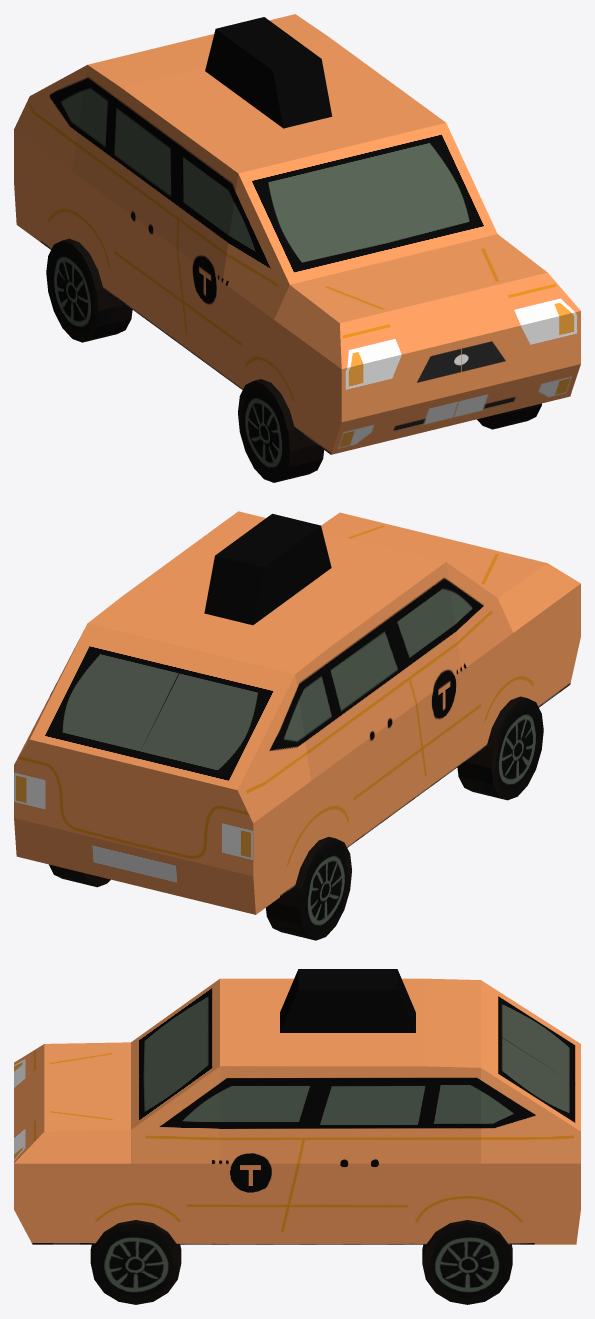
The model's file is car_suvtaxi_v1.fbx.
3 renders of one model, top to bottom at view 1: azimuth 30°, elevation 25°; view 2: azimuth 150°, elevation 25°; view 3: azimuth 270°, elevation 25°, orthographic. The views are drawn at different scales.
Visible parts, largest first — view 1: Body.003, Wheels.003, Taxi Sign.001; view 2: Body.003, Wheels.003, Taxi Sign.001; view 3: Body.003, Wheels.003, Taxi Sign.001.
Boxes of the visible parts, x1,y1,x2,y2 form: Body.003: (14,14,580,454); Wheels.003: (46,238,541,482); Taxi Sign.001: (205,17,332,128); Body.003: (14,511,580,914); Wheels.003: (49,696,543,940); Taxi Sign.001: (204,513,331,625); Body.003: (14,978,580,1244); Wheels.003: (90,1220,512,1304); Taxi Sign.001: (280,969,415,1032).
Size of the model in its own units: 238 by 283 by 534.
